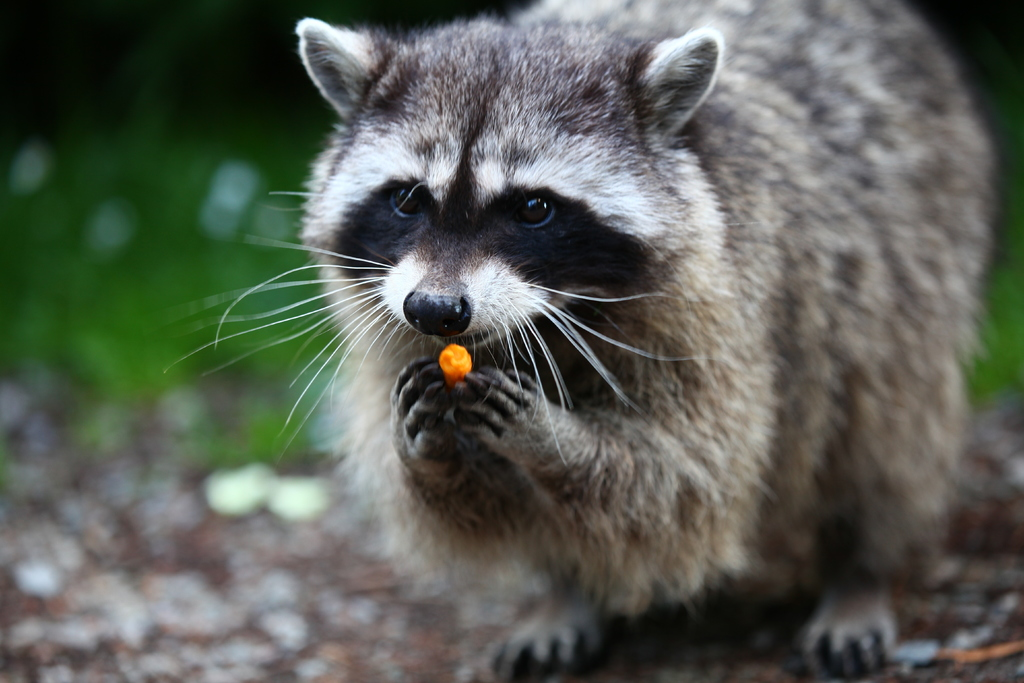raccoon: (289, 5, 1003, 683)
